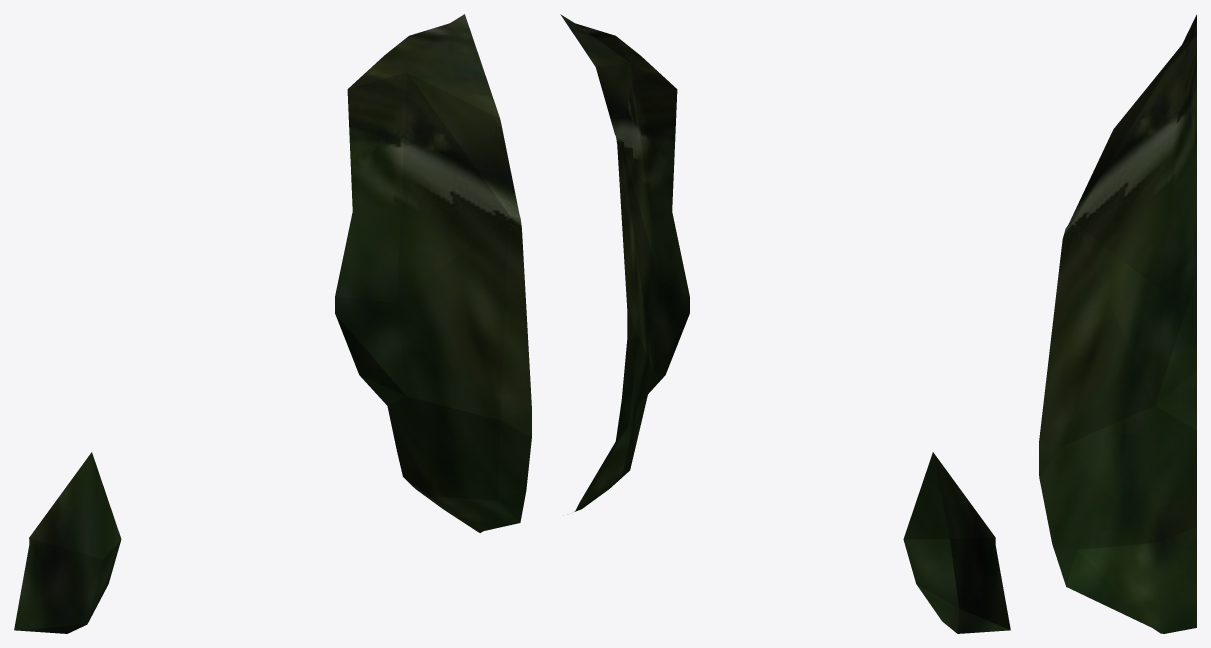
3 renders of one model, left to right at view 1: azimuth 30°, elevation 25°; view 2: azimuth 150°, elevation 25°; view 3: azimuth 270°, elevation 25°, orthographic. The views are drawn at different scales.
Bounding box in the file's own units: 0.6503 × 0.721 × 0.1678.
1 material, 1 textured.
